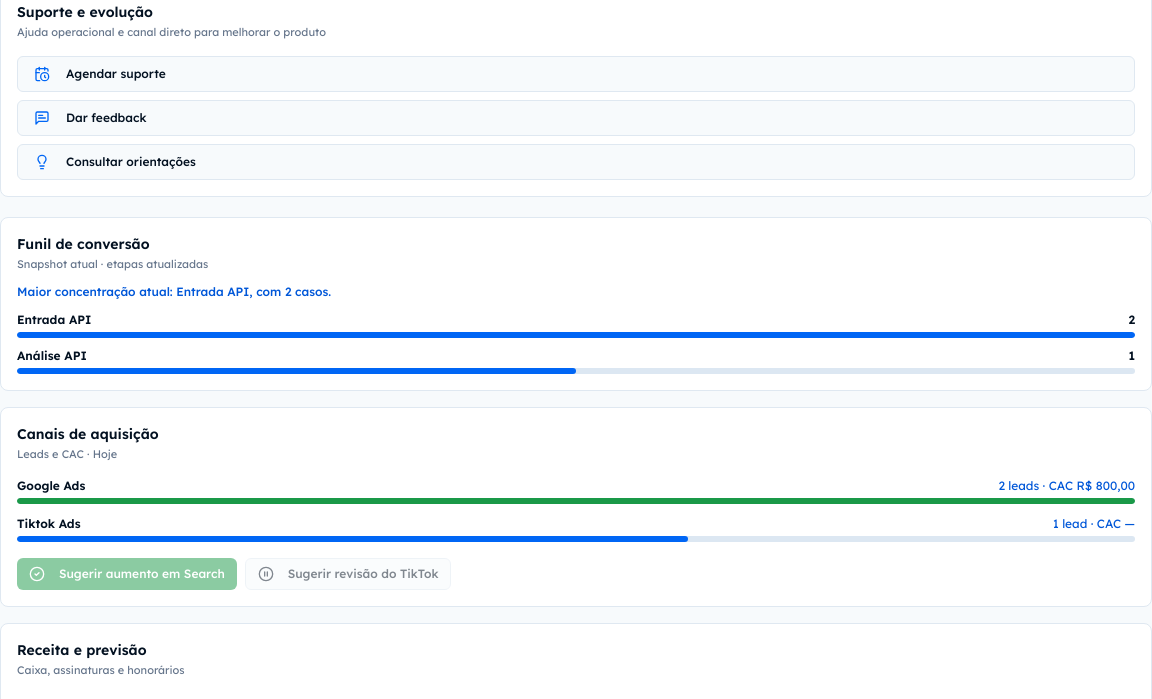
contextual capability navigation contracts › sends real stage and channel filters from Home to their destinations
The width and height of the screenshot is (1152, 699).
Later steps or results of the test are not shown.
(page scrolled)
Click the button "Análise API 1": [52, 355] box [17,348,1135,374]
(page scrolled)
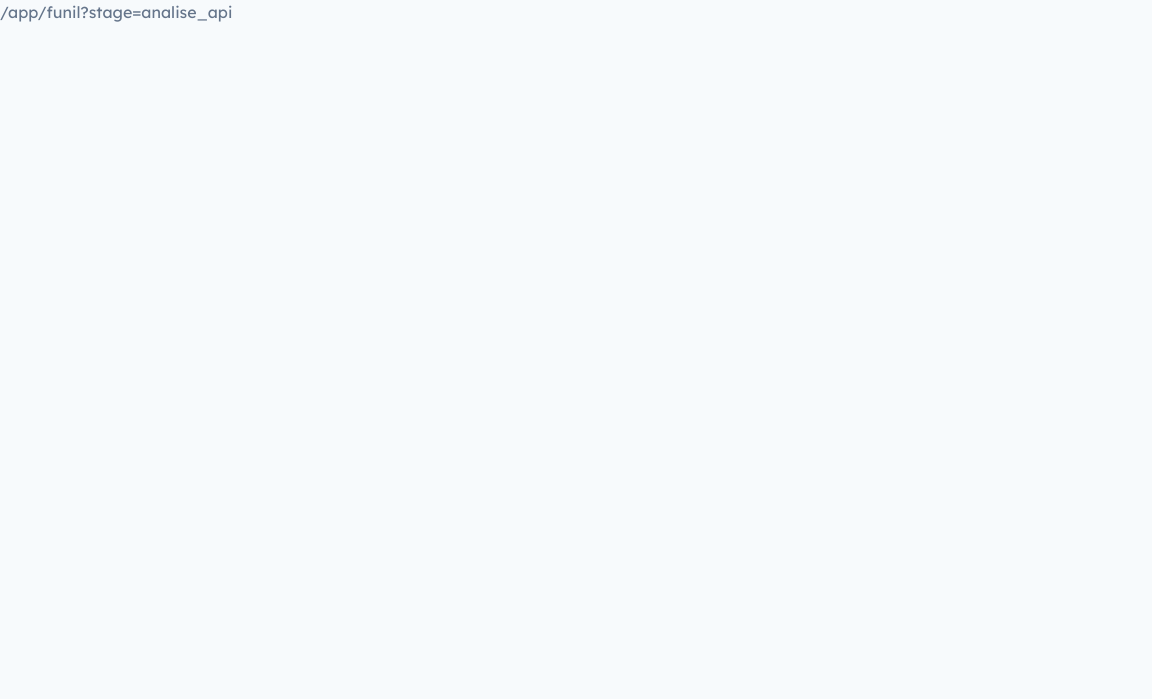
Check: the text with test id "location-probe" reads "/app/funil?stage=analise_api", box [0,2,232,22]
